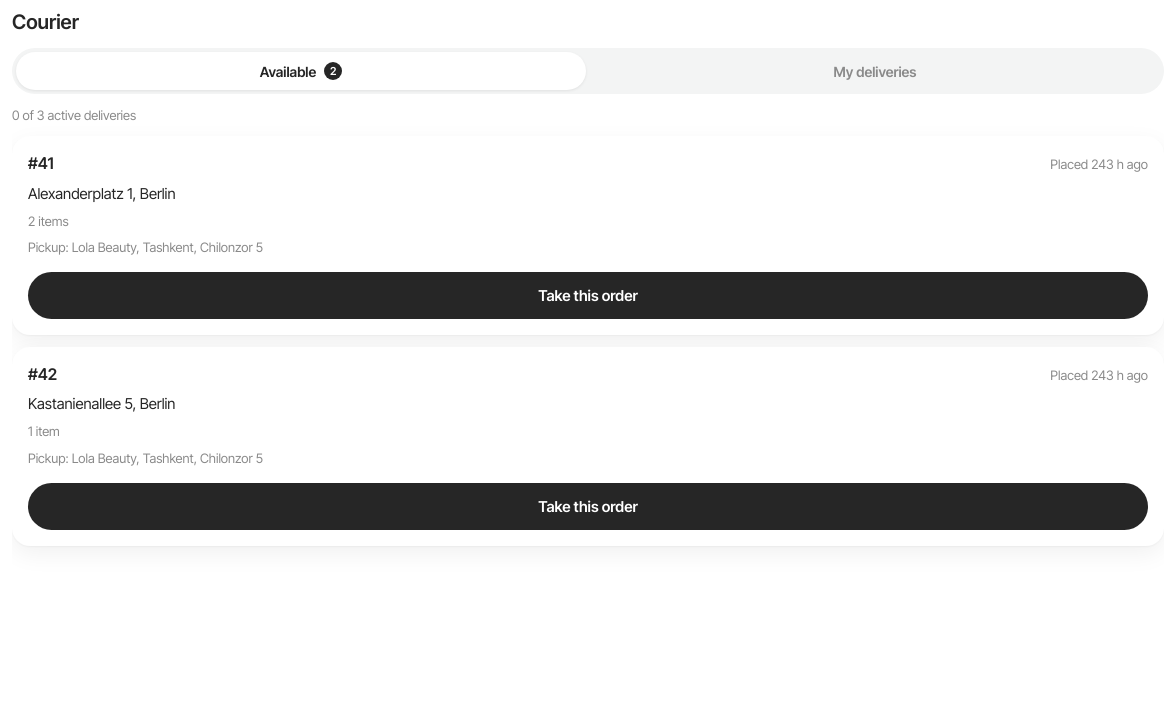
CourierScreen: pool › explains, and refreshes the pool, when another courier was faster
The width and height of the screenshot is (1164, 720).
Expected: the text "#41" is shown, [28,152,54,175]
Click the button "Take this order" below "2 items". click: (588, 296)
box: [28,272,1148,319]
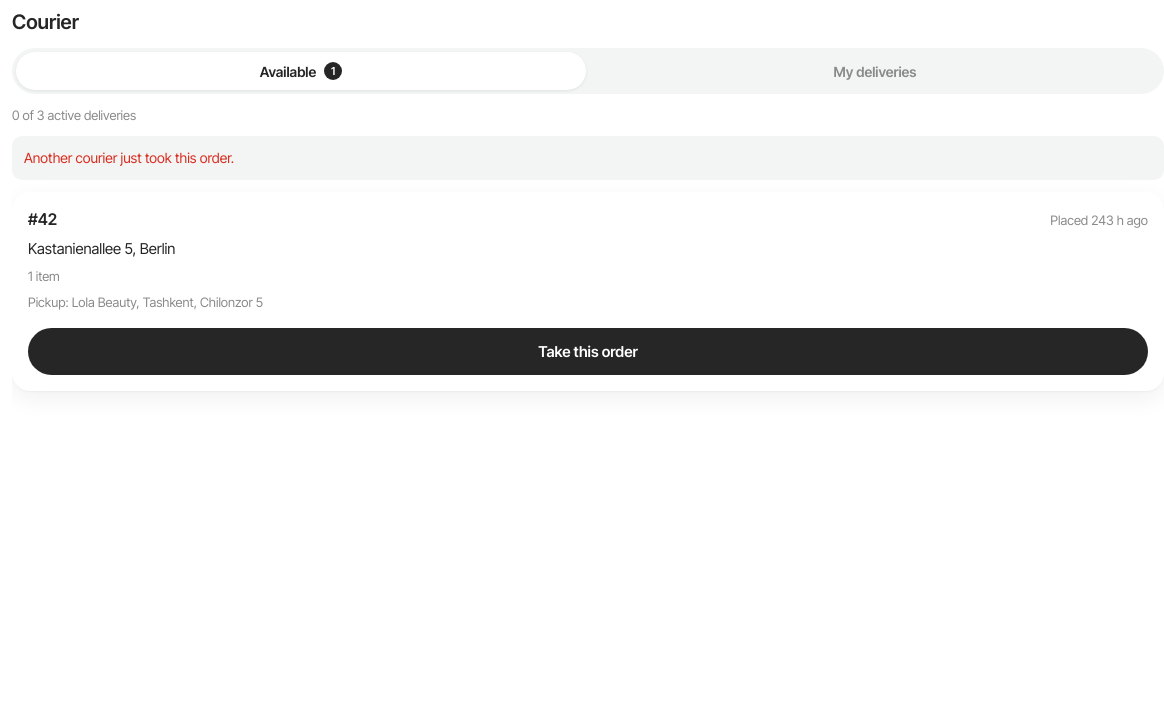
Expected: the text "#42" is shown, [28,208,57,230]
Now the message reads "Another courier just took this order.", box [24,149,234,166]
Now the text "#41" is gone
